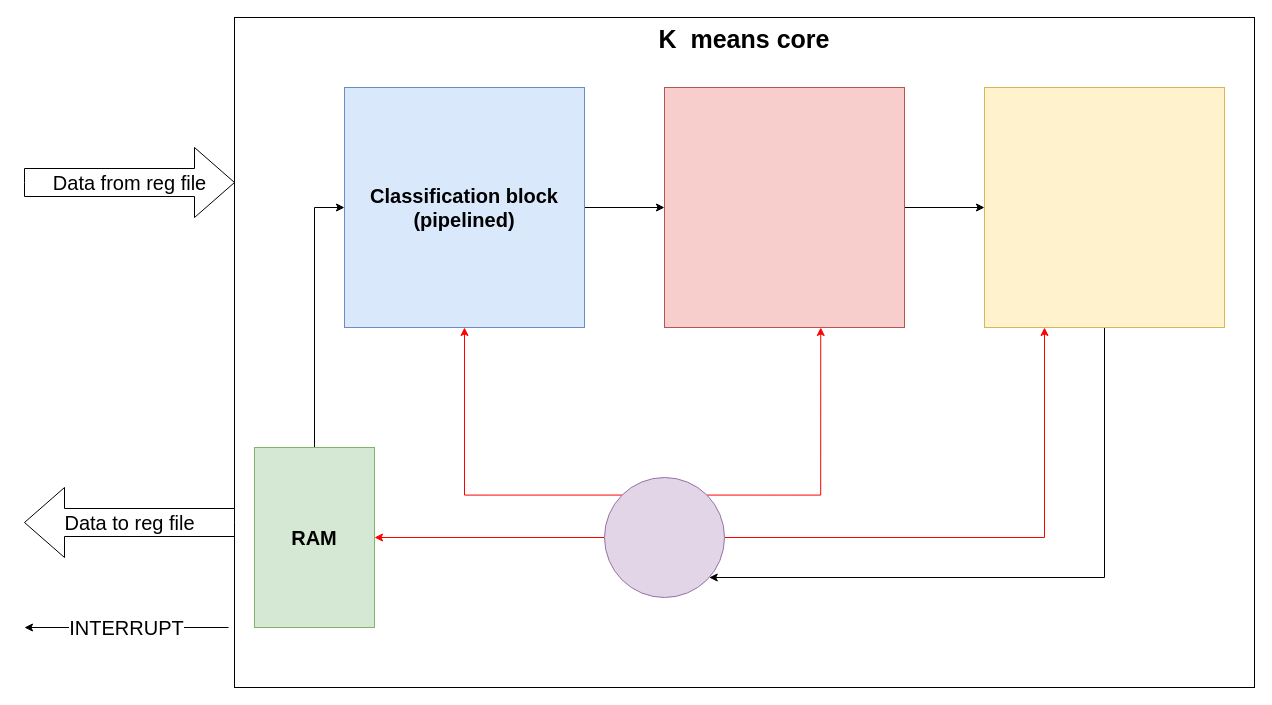
Image size: 1272x705. Some labels were removed from this diagram. The box of each missing label's shape, as (x1, y1, x2, y2) in pixels:
Convergence check block: (984, 86, 1224, 328)
Core controller: (604, 476, 724, 598)
New means calculation block: (664, 86, 904, 328)
